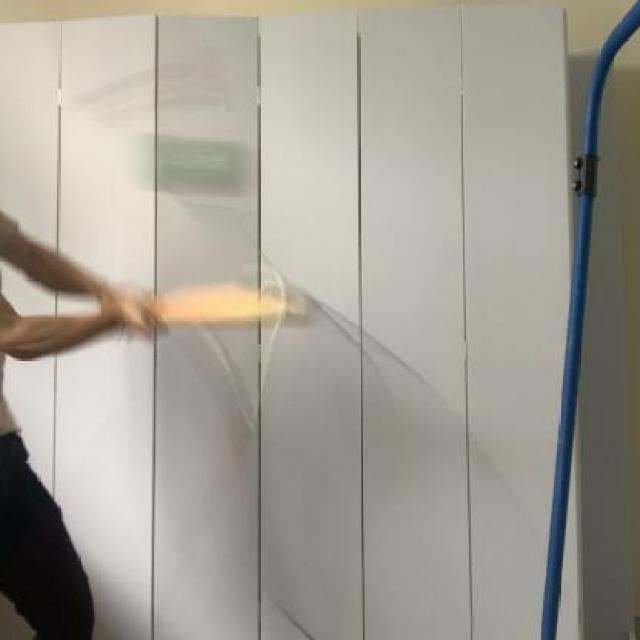baseball: (124, 108, 250, 202)
